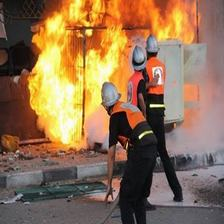fire: (24, 1, 97, 149), (75, 1, 204, 44), (95, 38, 126, 80)
